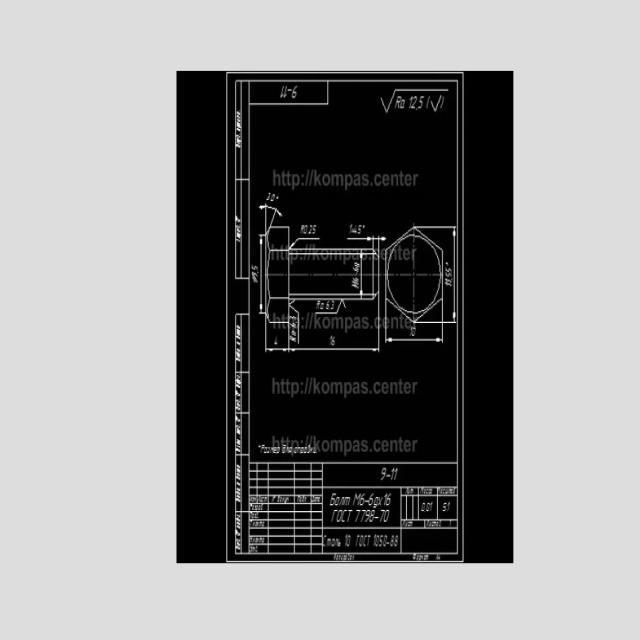marking_line: (288, 322, 380, 351), (443, 225, 456, 324), (385, 324, 444, 344), (265, 323, 291, 352), (258, 232, 265, 316), (347, 234, 387, 248), (260, 205, 283, 225), (290, 236, 322, 248)
numeric: (354, 509, 361, 522), (418, 95, 424, 109), (384, 509, 390, 523), (444, 277, 452, 286), (369, 510, 375, 522), (369, 492, 374, 506), (412, 96, 417, 109), (381, 467, 386, 480), (360, 509, 365, 522), (387, 493, 392, 506), (361, 494, 366, 506), (365, 509, 369, 523), (394, 467, 398, 480), (380, 510, 384, 523), (412, 326, 417, 336), (271, 193, 276, 202), (330, 301, 335, 310), (304, 225, 308, 235), (308, 224, 312, 234), (443, 502, 447, 512), (447, 501, 451, 511), (426, 502, 430, 512), (430, 501, 434, 511), (391, 467, 394, 480), (300, 224, 304, 233), (251, 264, 257, 270), (313, 225, 317, 234), (353, 225, 357, 234), (446, 267, 452, 273), (409, 96, 412, 108), (421, 502, 425, 511), (251, 272, 258, 277), (445, 272, 452, 277), (330, 334, 333, 345), (326, 300, 329, 310), (267, 192, 270, 201), (332, 336, 335, 345), (358, 225, 361, 233), (410, 325, 412, 337), (384, 493, 386, 505), (350, 224, 352, 233)
special_symbol: (379, 85, 453, 112), (315, 301, 348, 316), (290, 300, 301, 344), (359, 250, 364, 298), (430, 94, 442, 112), (440, 95, 445, 109), (426, 95, 430, 109), (252, 276, 258, 284), (385, 474, 391, 478), (373, 516, 379, 520), (277, 195, 280, 200)
